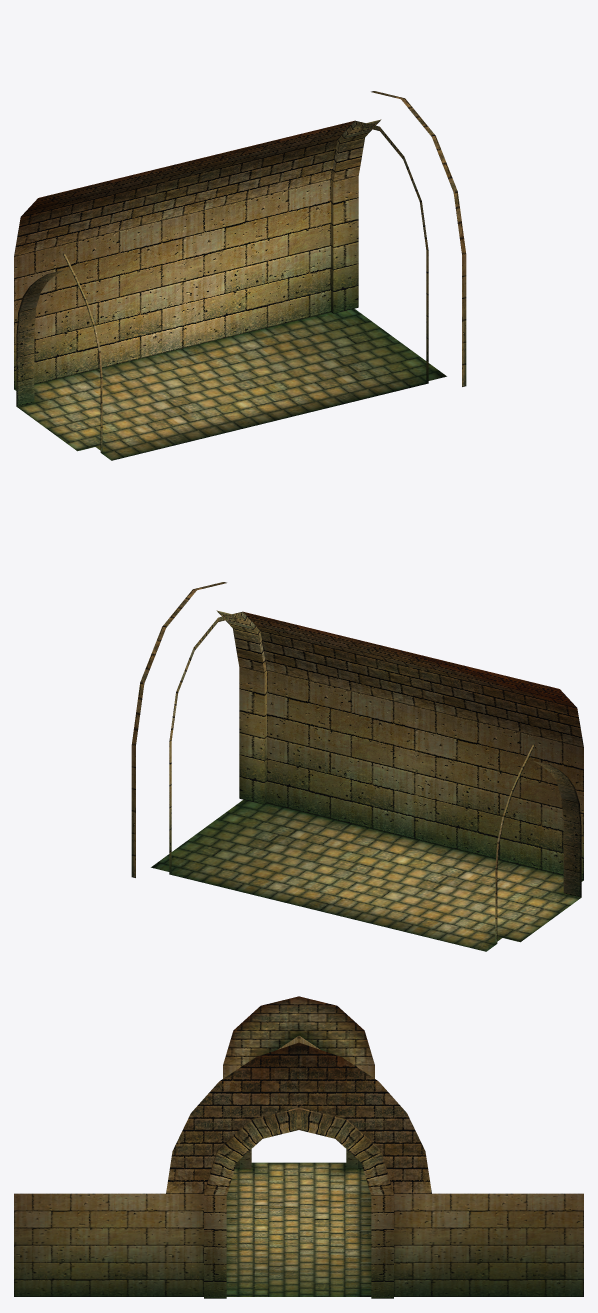
File: Mission12_CataComb01.glb
3 renders of one model, top to bottom at view 1: azimuth 30°, elevation 25°; view 2: azimuth 150°, elevation 25°; view 3: azimuth 270°, elevation 25°, orthographic. The views are drawn at different scales.
Visible parts, largest first — view 1: MISSION12_CATACOMB01; view 2: MISSION12_CATACOMB01; view 3: MISSION12_CATACOMB01.
Part boxes in pixels (bbox=[...]): MISSION12_CATACOMB01: bbox=[14, 91, 466, 460]; MISSION12_CATACOMB01: bbox=[131, 582, 583, 951]; MISSION12_CATACOMB01: bbox=[14, 996, 583, 1298].
Size of the model in its own units: 8.47 by 7.39 by 15.
3 materials, 3 textured.
